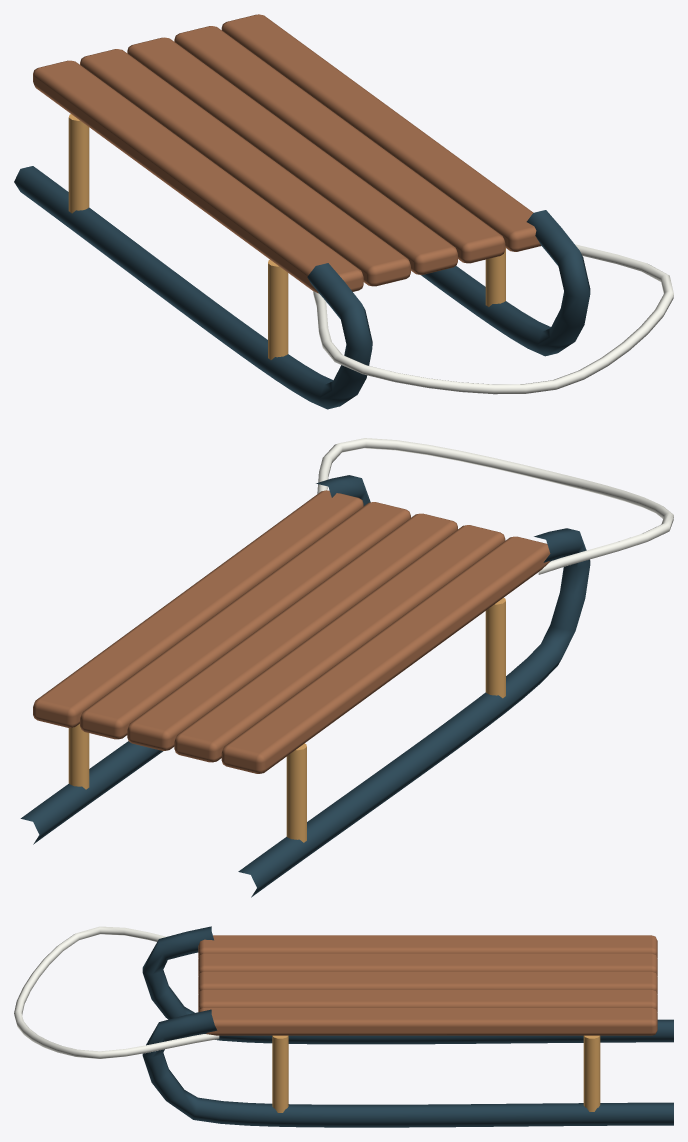
File: storybook-christmas-market-wooden-toboggan-33e92eb8__19700.glb
3 renders of one model, top to bottom at view 1: azimuth 30°, elevation 25°; view 2: azimuth 150°, elevation 25°; view 3: azimuth 270°, elevation 25°, orthographic. The views are drawn at different scales.
Parts seen in each view (by area): view 1: wooden-toboggan; view 2: wooden-toboggan; view 3: wooden-toboggan.
Part boxes in pixels (<box>): wooden-toboggan: <box>14,14,673,409</box>; wooden-toboggan: <box>20,438,673,897</box>; wooden-toboggan: <box>14,926,673,1127</box>.
Size of the model in its own units: 0.923 by 0.3811 by 2.01.
